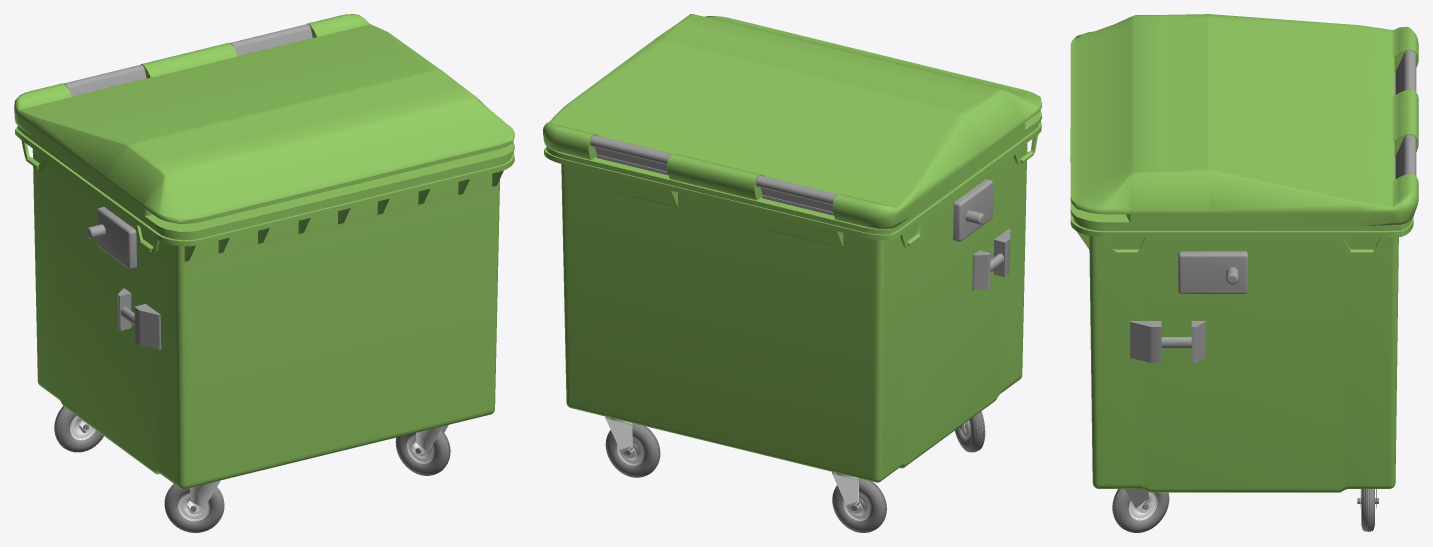
File: Dumpster.fbx
3 views of the same model, side by side, from view 1: azimuth 30°, elevation 25°; view 2: azimuth 150°, elevation 25°; view 3: azimuth 270°, elevation 25° (orthographic). The views are drawn at different scales.
Visible parts, largest first — view 1: BOX, Top__P_axis_oº_to__253º_, BOX_2, Truck_conections_2, Truck_conections, Torus_1_4, Torus_1_2, Torus_1_3, Polygon_4; view 2: BOX, Top__P_axis_oº_to__253º_, BOX_2, Truck_conections_2, Torus_1, Torus_1_3, Truck_conections, Torus_1_4, Polygon, Polygon_3; view 3: BOX, Top__P_axis_oº_to__253º_, Truck_conections_2, Truck_conections, BOX_2, Torus_1_2, Torus_1, Polygon_2.
Boxes of the visible parts, x1,y1,x2,y2 form: BOX: (15,125,514,489); Top__P_axis_oº_to__253º_: (14,14,514,235); BOX_2: (64,24,312,96); Truck_conections_2: (86,206,136,269); Truck_conections: (117,288,161,349); Torus_1_4: (164,484,224,532); Torus_1_2: (395,429,450,475); Torus_1_3: (54,406,103,452); Polygon_4: (186,480,220,514); BOX: (544,121,1041,482); Top__P_axis_oº_to__253º_: (543,14,1041,229); BOX_2: (590,135,837,215); Truck_conections_2: (953,179,992,241); Torus_1: (605,423,660,477); Torus_1_3: (832,478,886,532); Truck_conections: (972,228,1010,290); Torus_1_4: (955,411,985,452); Polygon: (605,416,635,458); Polygon_3: (832,472,862,513); BOX: (1070,128,1413,492); Top__P_axis_oº_to__253º_: (1070,14,1418,226); Truck_conections_2: (1178,251,1247,293); Truck_conections: (1130,321,1205,362); BOX_2: (1394,50,1416,179); Torus_1_2: (1112,489,1169,532); Torus_1: (1361,489,1374,531); Polygon_2: (1124,489,1152,512).
Bounding box in the file's own units: 138 × 133 × 109.
